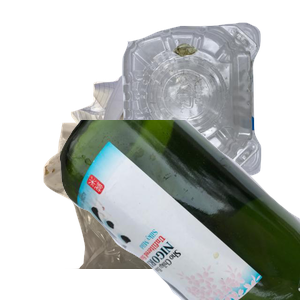glass: (60, 120, 300, 300)
paper: (68, 66, 215, 197)
plastic: (119, 20, 300, 190)
trash: (41, 120, 276, 300)
